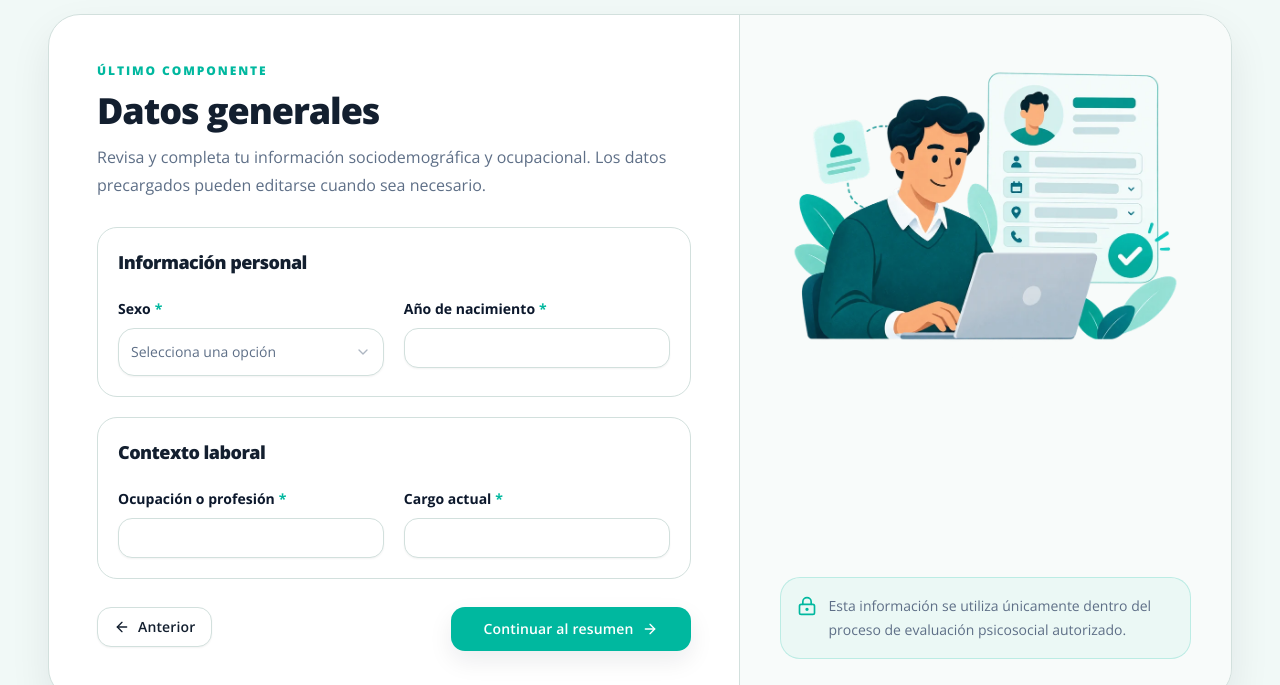
hitos del recorrido WEB_DIRECT › muestra errores junto a los campos obligatorios
The image size is (1280, 685).
(page scrolled)
Click the button "Continuar al resumen" at (571, 629), box [451,607,690,651]
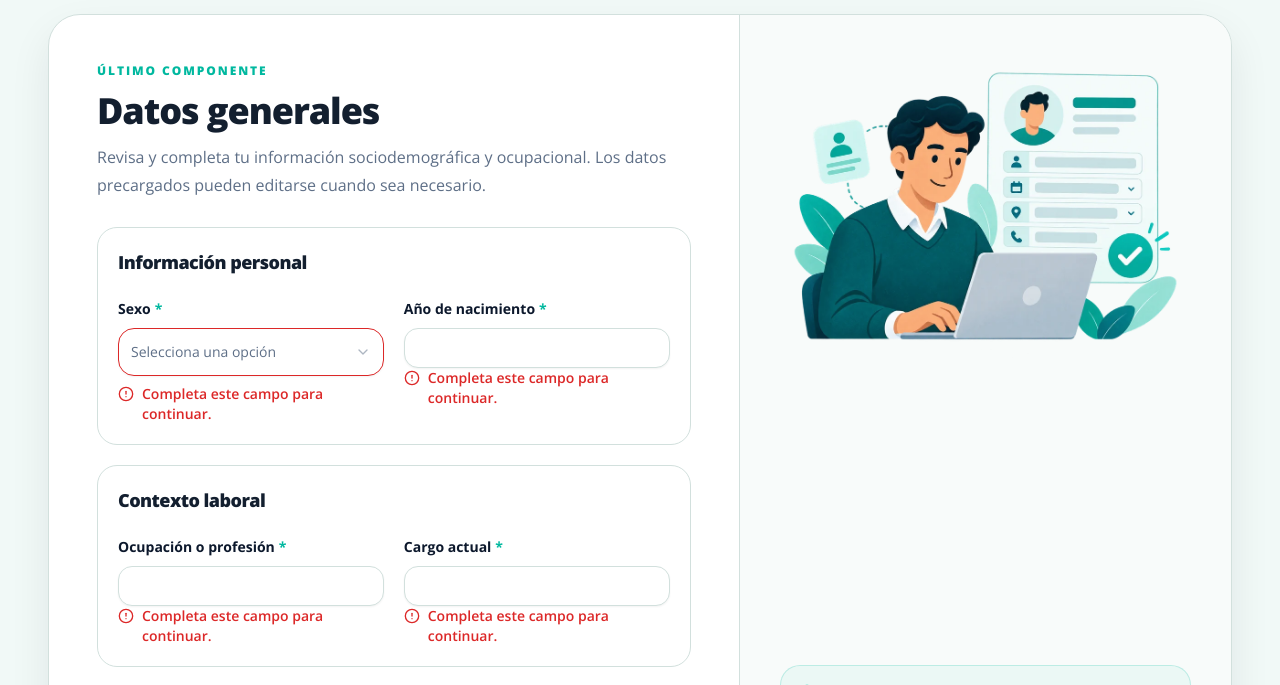
Result: the text "Completa este campo para continuar." is shown 4 times at [118,384,323,423]; [404,368,609,407]; [118,606,323,645]; [404,606,609,645]
